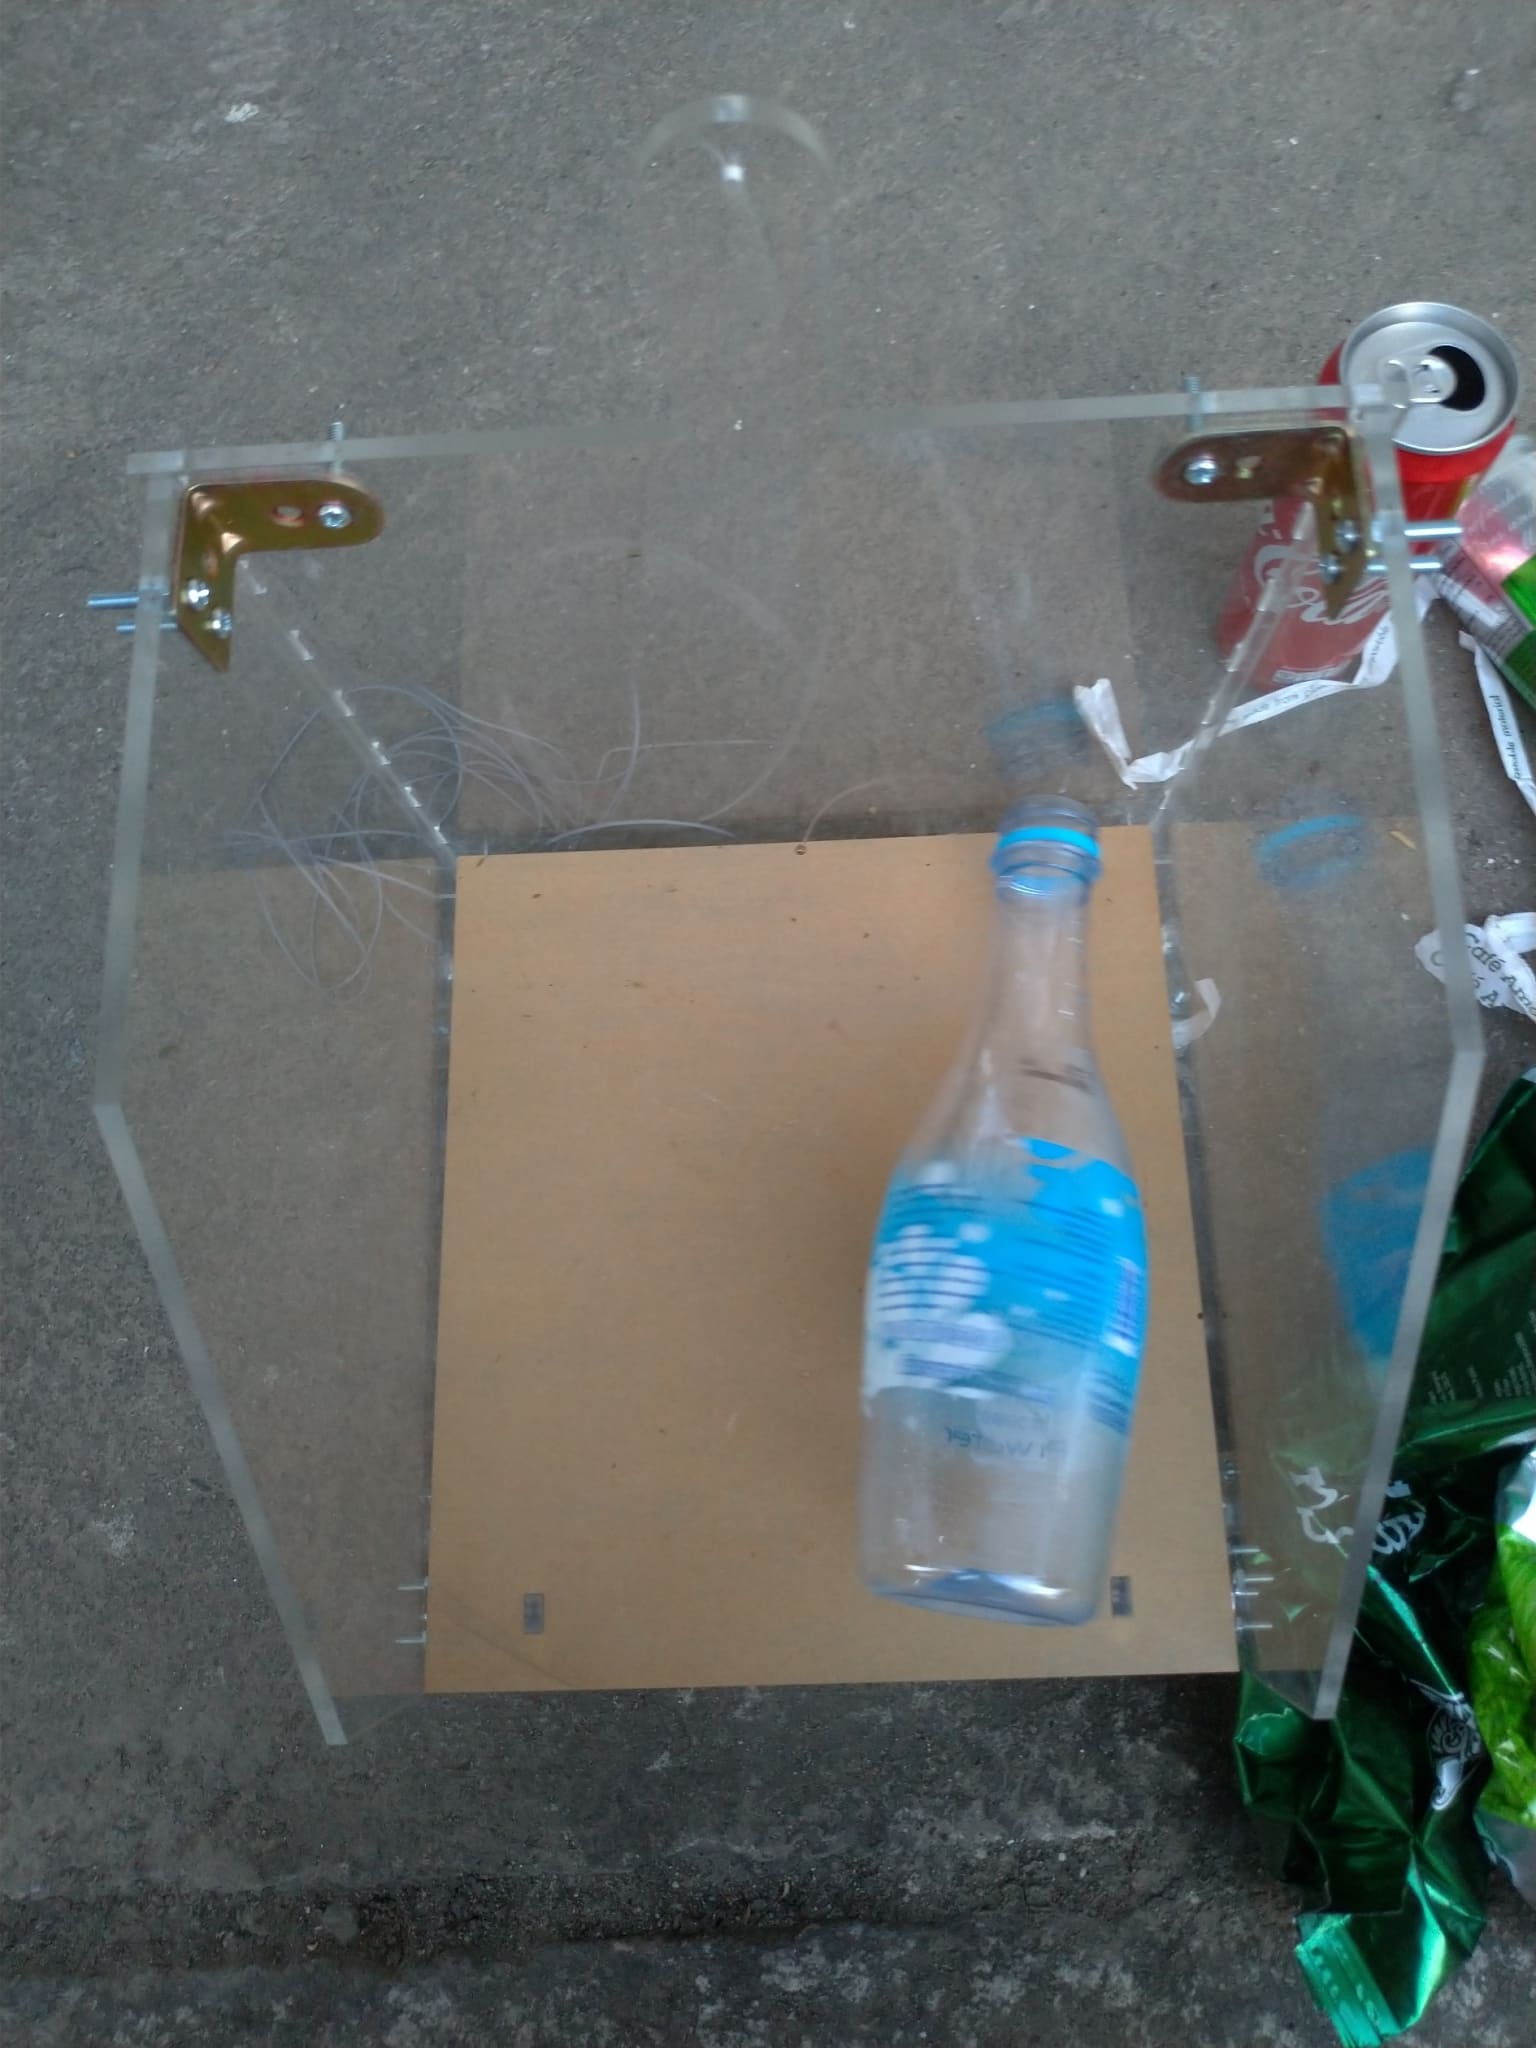AlCan: (1212, 300, 1517, 700)
Others: (1249, 1045, 1536, 2001), (1066, 587, 1421, 800), (1417, 658, 1536, 1029)
PlasticBottle: (858, 810, 1150, 1625)
